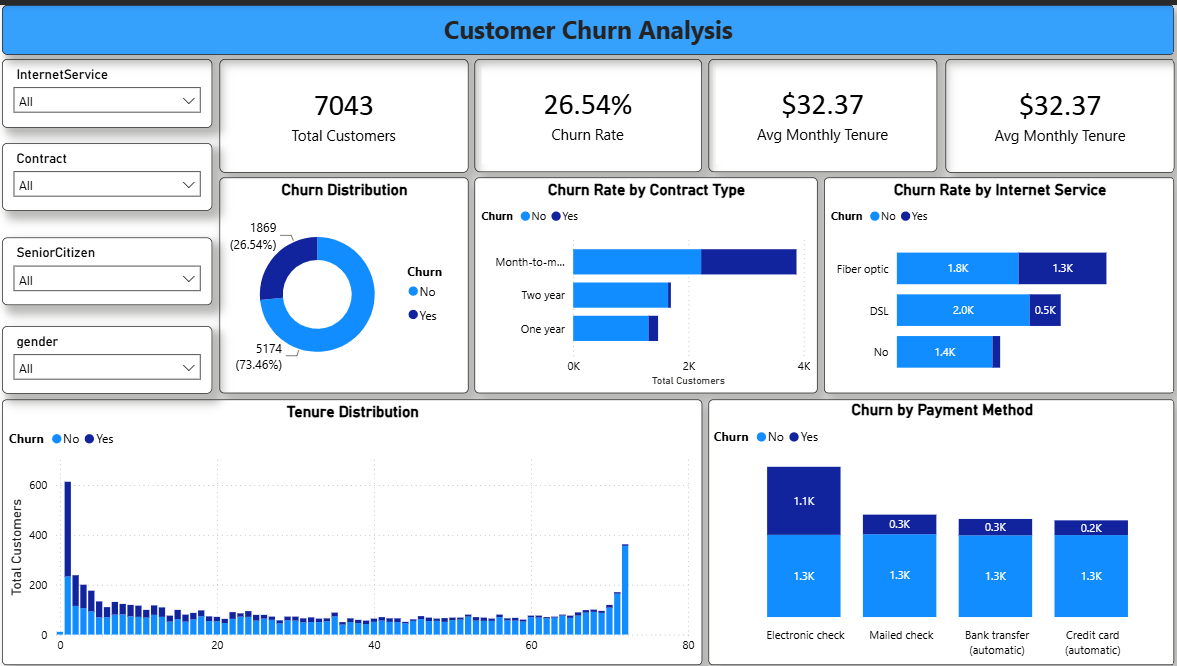

What the dashboard file says about the page in this screenshot:
{"tool":"powerbi","page":{"name":"Page 1","canvas":[1280,720],"ordinal":0},"visuals":[{"type":"cardVisual","fields":{"Data":["2 Cleaned_data.Total Customers"]},"box":[239.1,58.6,270,123.6],"z":0},{"type":"cardVisual","fields":{"Data":["2 Cleaned_data.Churn Rate"]},"box":[516.3,59.1,246.8,122.7],"z":1000},{"type":"cardVisual","fields":{"Data":["2 Cleaned_data.Avg Monthly Tenure"]},"box":[1025.6,58.7,249.2,123.2],"z":2000},{"type":"cardVisual","fields":{"Data":["2 Cleaned_data.Avg Monthly Tenure"]},"box":[770,59.1,248.3,122.7],"z":3000},{"type":"textbox","box":[3.3,0,1272,53.7],"z":4000},{"type":"donutChart","title":"Churn Distribution","fields":{"Category":["2 Cleaned_data.Churn"],"Y":["CountNonNull(2 Cleaned_data.customerID)"]},"box":[239.1,187.1,270,234.2],"z":5000},{"type":"barChart","title":"Churn Rate by Contract Type","fields":{"Category":["2 Cleaned_data.Contract"],"Y":["2 Cleaned_data.Total Customers"],"Series":["2 Cleaned_data.Churn"]},"box":[515.6,187.1,372,234.2],"z":6000},{"type":"barChart","title":"Churn Rate by Internet Service","fields":{"Y":["2 Cleaned_data.Total Customers"],"Series":["2 Cleaned_data.Churn"],"Category":["2 Cleaned_data.InternetService"]},"box":[894.6,187.1,380.6,234.2],"z":7000},{"type":"columnChart","title":"Tenure Distribution","fields":{"Category":["2 Cleaned_data.tenure"],"Y":["2 Cleaned_data.Total Customers"],"Series":["2 Cleaned_data.Churn"]},"box":[3.3,427.8,759.6,287.9],"z":8000},{"type":"columnChart","title":"Churn by Payment Method","fields":{"Y":["2 Cleaned_data.Total Customers"],"Series":["2 Cleaned_data.Churn"],"Category":["2 Cleaned_data.PaymentMethod"]},"box":[769.4,427.8,505.9,287.9],"z":9000},{"type":"slicer","fields":{"Values":["2 Cleaned_data.InternetService"]},"box":[3.3,58.6,227.7,74.8],"z":10000},{"type":"slicer","fields":{"Values":["2 Cleaned_data.gender"]},"box":[3.3,348.1,227.7,73.2],"z":11000},{"type":"slicer","fields":{"Values":["2 Cleaned_data.SeniorCitizen"]},"box":[3.3,252.1,227.7,73.2],"z":12000},{"type":"slicer","fields":{"Values":["2 Cleaned_data.Contract"]},"box":[3.3,149.6,227.7,73.2],"z":13000}]}

Visuals, with their boxes in screenshot pixels (x1, y1, x2, y2), scaled from the page's 1280x720 canvas onto the 1177x666 screenshot:
cardVisual - 2 Cleaned_data.Total Customers: [left=220, top=54, right=468, bottom=169]
cardVisual - 2 Cleaned_data.Churn Rate: [left=475, top=55, right=702, bottom=168]
cardVisual - 2 Cleaned_data.Avg Monthly Tenure: [left=943, top=54, right=1172, bottom=168]
cardVisual - 2 Cleaned_data.Avg Monthly Tenure: [left=708, top=55, right=936, bottom=168]
textbox: [left=3, top=0, right=1173, bottom=50]
"Churn Distribution" donutChart: [left=220, top=173, right=468, bottom=390]
"Churn Rate by Contract Type" barChart: [left=474, top=173, right=816, bottom=390]
"Churn Rate by Internet Service" barChart: [left=823, top=173, right=1173, bottom=390]
"Tenure Distribution" columnChart: [left=3, top=396, right=702, bottom=662]
"Churn by Payment Method" columnChart: [left=707, top=396, right=1173, bottom=662]
slicer - 2 Cleaned_data.InternetService: [left=3, top=54, right=212, bottom=123]
slicer - 2 Cleaned_data.gender: [left=3, top=322, right=212, bottom=390]
slicer - 2 Cleaned_data.SeniorCitizen: [left=3, top=233, right=212, bottom=301]
slicer - 2 Cleaned_data.Contract: [left=3, top=138, right=212, bottom=206]
